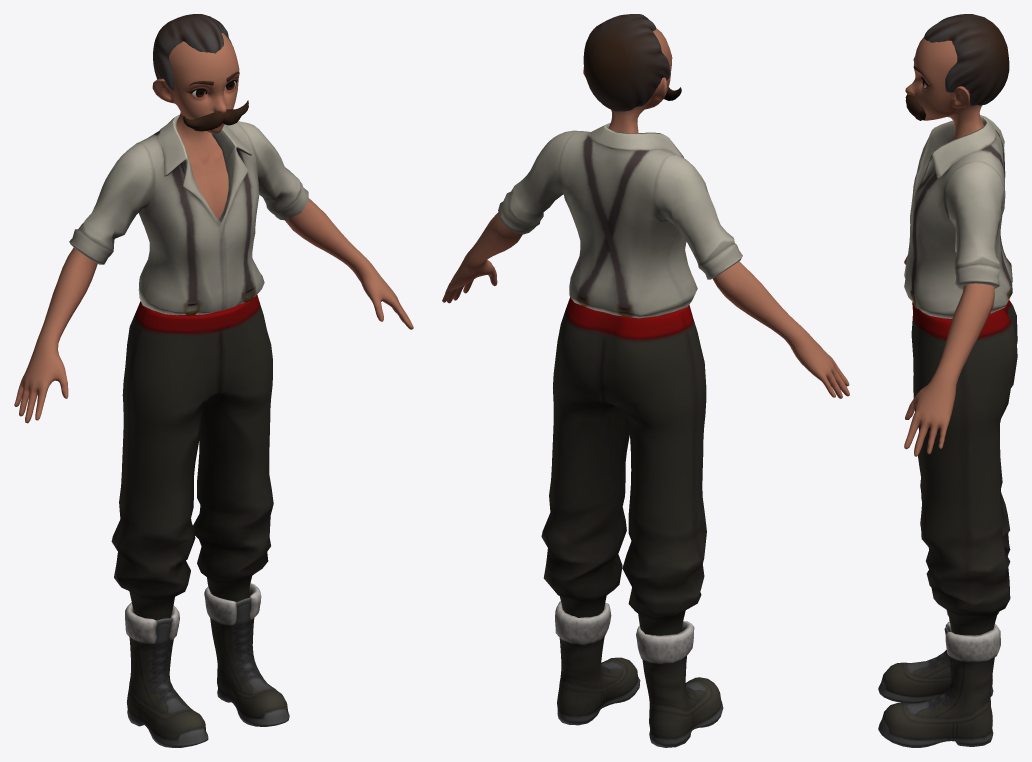
The model's file is Ottoman_Mesh.obj.
The picture shows the model from 3 angles, left to right: view 1: azimuth 30°, elevation 25°; view 2: azimuth 150°, elevation 25°; view 3: azimuth 270°, elevation 25°; orthographic projection. The views are drawn at different scales.
Parts seen in each view (by area): view 1: Ottoman_Mesh_0; view 2: Ottoman_Mesh_0; view 3: Ottoman_Mesh_0.
Part boxes in pixels (box(x1,y1,x2,y2)): Ottoman_Mesh_0: box(14, 14, 413, 747); Ottoman_Mesh_0: box(442, 14, 849, 747); Ottoman_Mesh_0: box(878, 14, 1017, 747).
Bounding box in the file's own units: 1.06 × 1.8 × 0.3252.
1 material, 1 textured.
